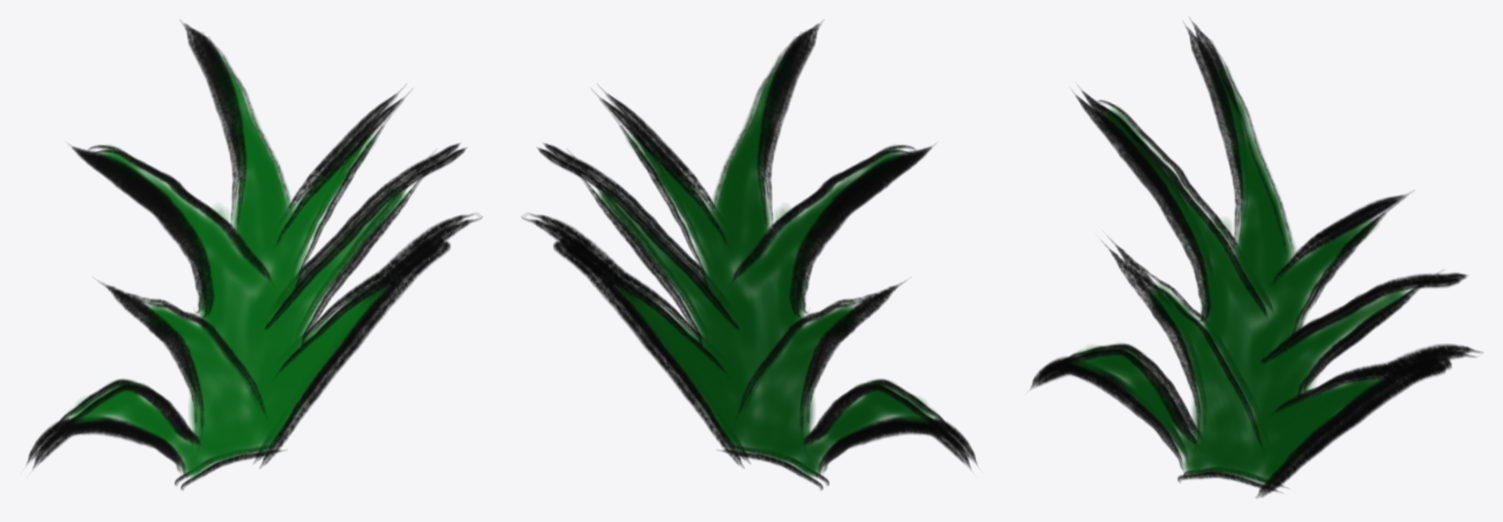
File: SM_PlantProp_02.glb
3 views of the same model, side by side, from view 1: azimuth 30°, elevation 25°; view 2: azimuth 150°, elevation 25°; view 3: azimuth 330°, elevation 25° (orthographic).
Visible parts, largest first — view 1: T_Plant_02; view 2: T_Plant_02; view 3: T_Plant_02.
Part boxes in pixels (<box>): T_Plant_02: <box>27,23,482,490</box>; T_Plant_02: <box>521,23,976,490</box>; T_Plant_02: <box>1030,21,1482,497</box>.
Size of the model in its own units: 0.653 by 0.6476 by 0.015.
1 material, 1 textured.
